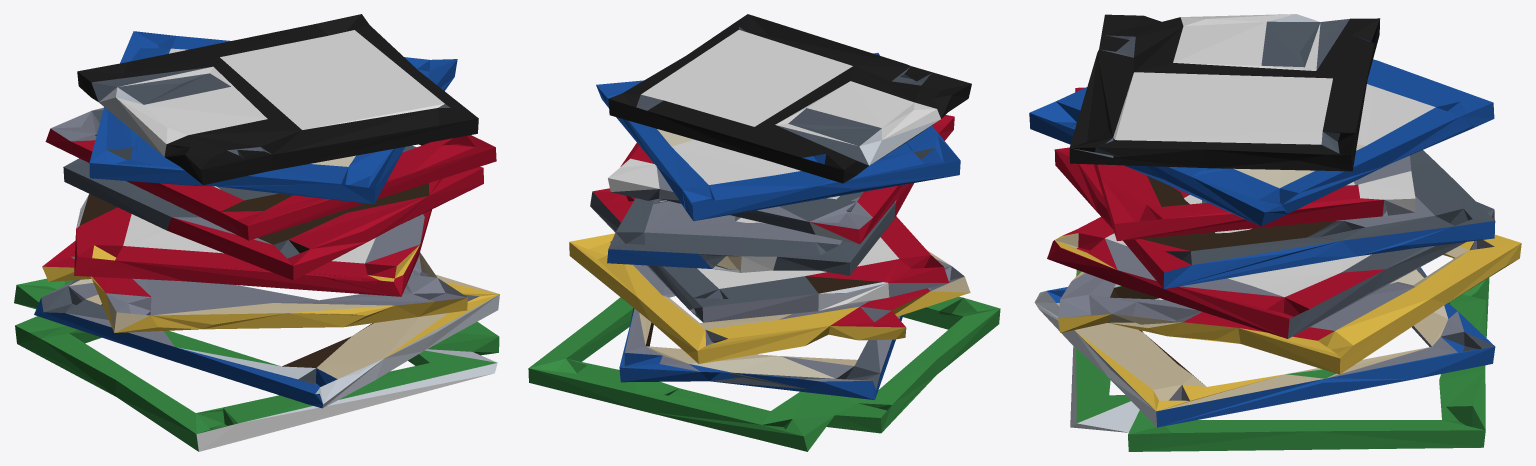
Rendered from floppies.glb.
The picture shows the model from 3 angles, left to right: view 1: azimuth 30°, elevation 25°; view 2: azimuth 150°, elevation 25°; view 3: azimuth 270°, elevation 25°; orthographic projection. The views are drawn at different scales.
Parts seen in each view (by area): view 1: floppies; view 2: floppies; view 3: floppies.
Boxes of the visible parts, box(x1,y1,x2,y2) form: floppies: box(14, 14, 499, 451); floppies: box(528, 14, 1000, 451); floppies: box(1029, 14, 1521, 451).
Size of the model in its own units: 0.1037 by 0.0702 by 0.11.
